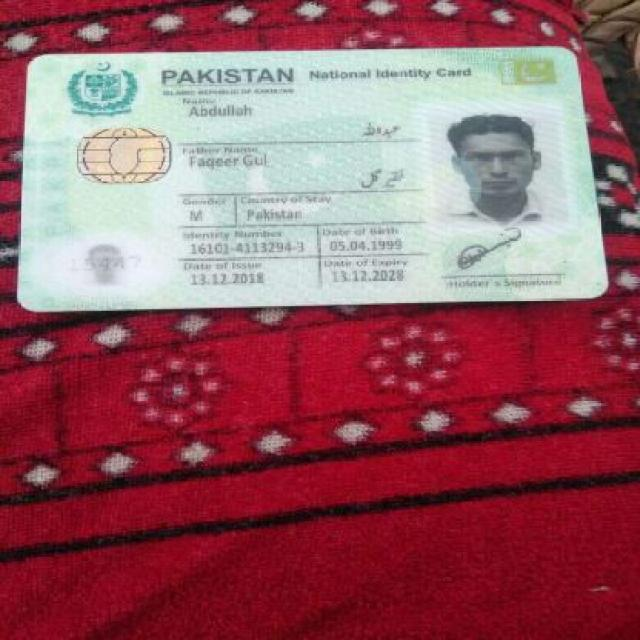Front: (17, 44, 618, 314)
